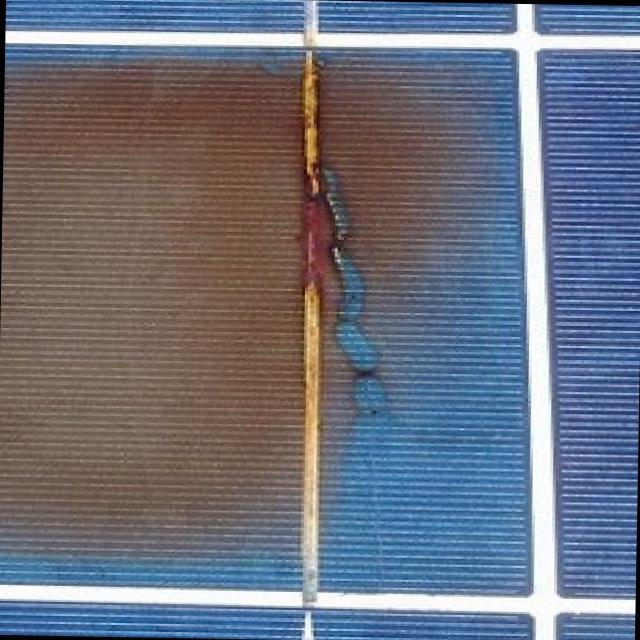faulty: (0, 23, 544, 608)
